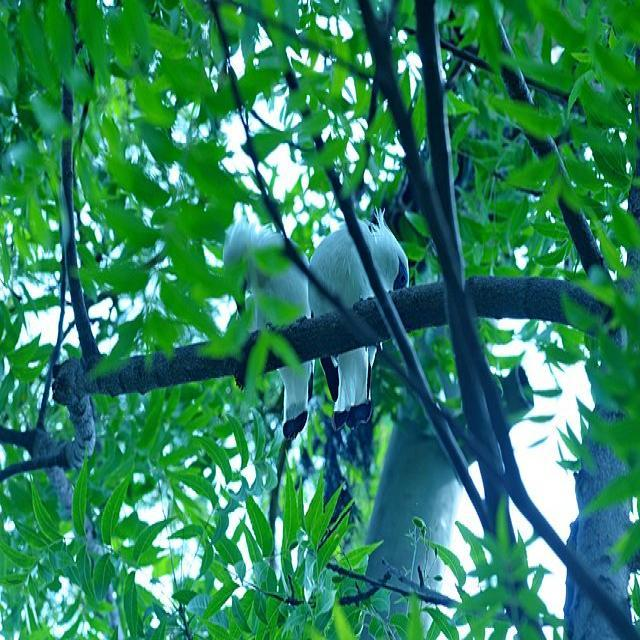Jalak Bali: (203, 202, 316, 448), (304, 203, 419, 434)
